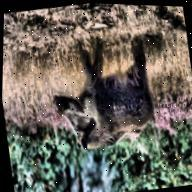boar: (37, 33, 171, 174)
